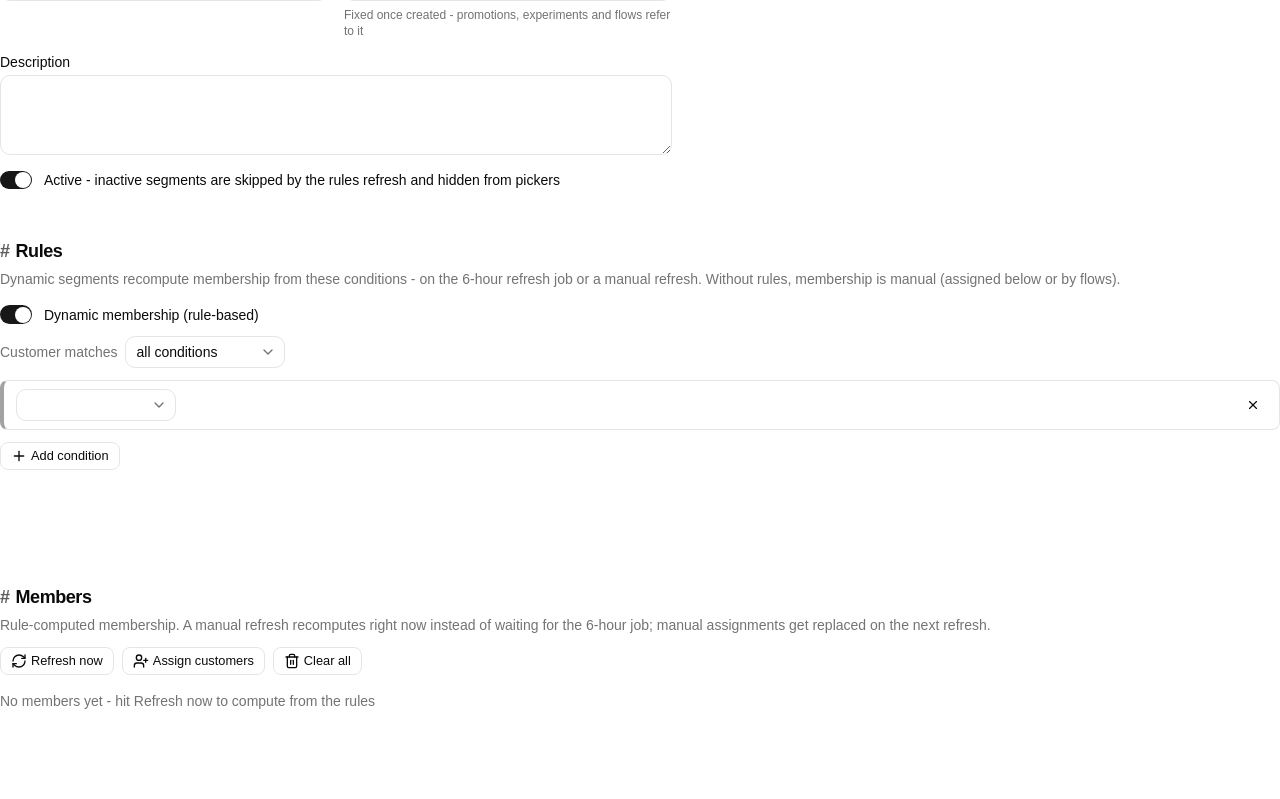
Test case: SegmentDetailPage clear membership › keeps the dialog open and shows a refused clear
(page scrolled)
Click the button "Clear all": [317, 661] box [273,647,362,675]
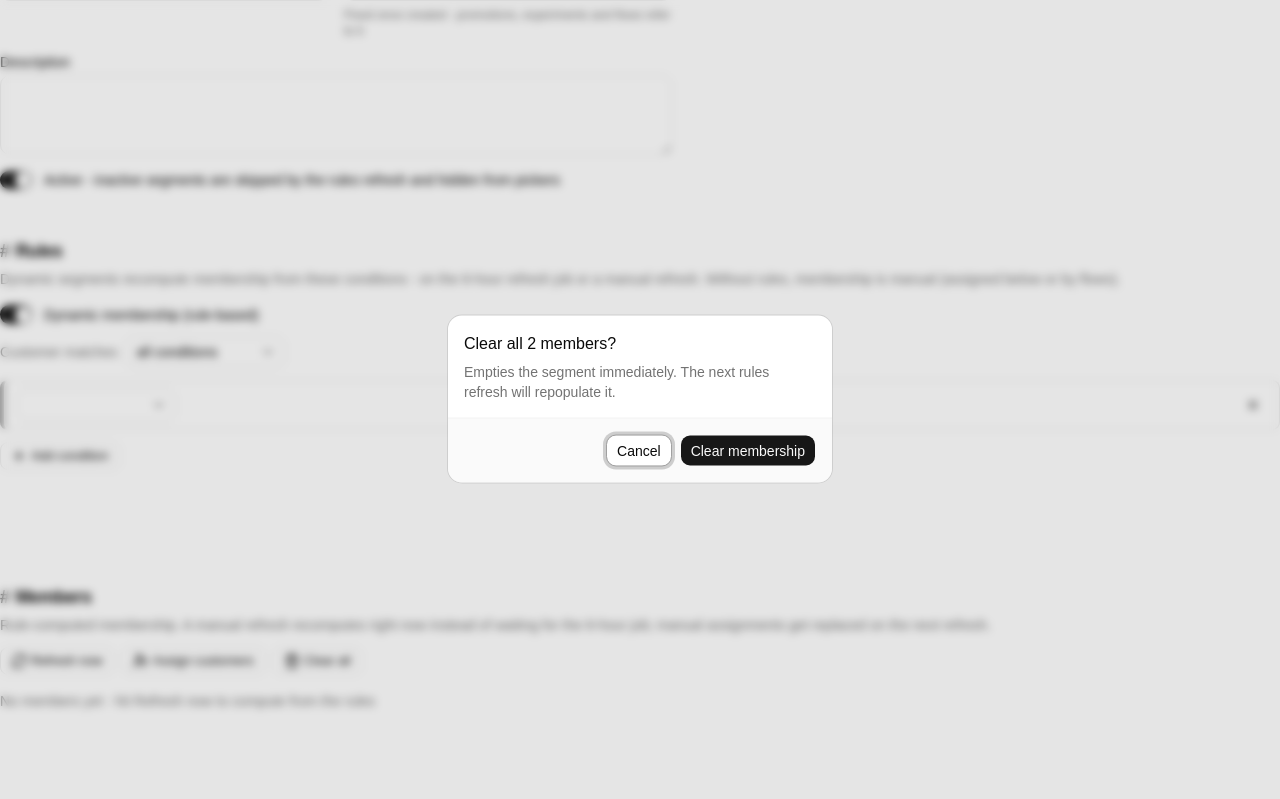
Click the button "Clear membership": [748, 450] box [680,434,816,466]
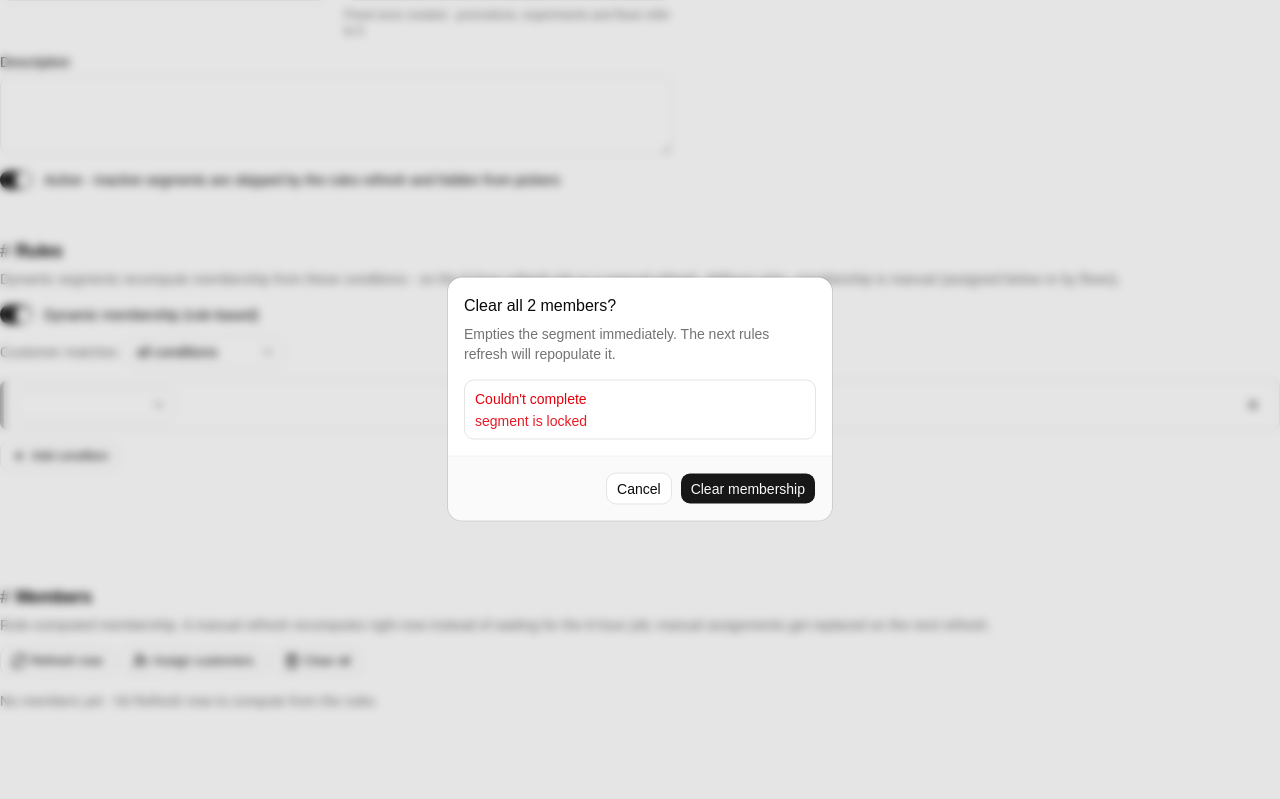
Check: the text "segment is locked" is shown, box [475,412,587,428]
